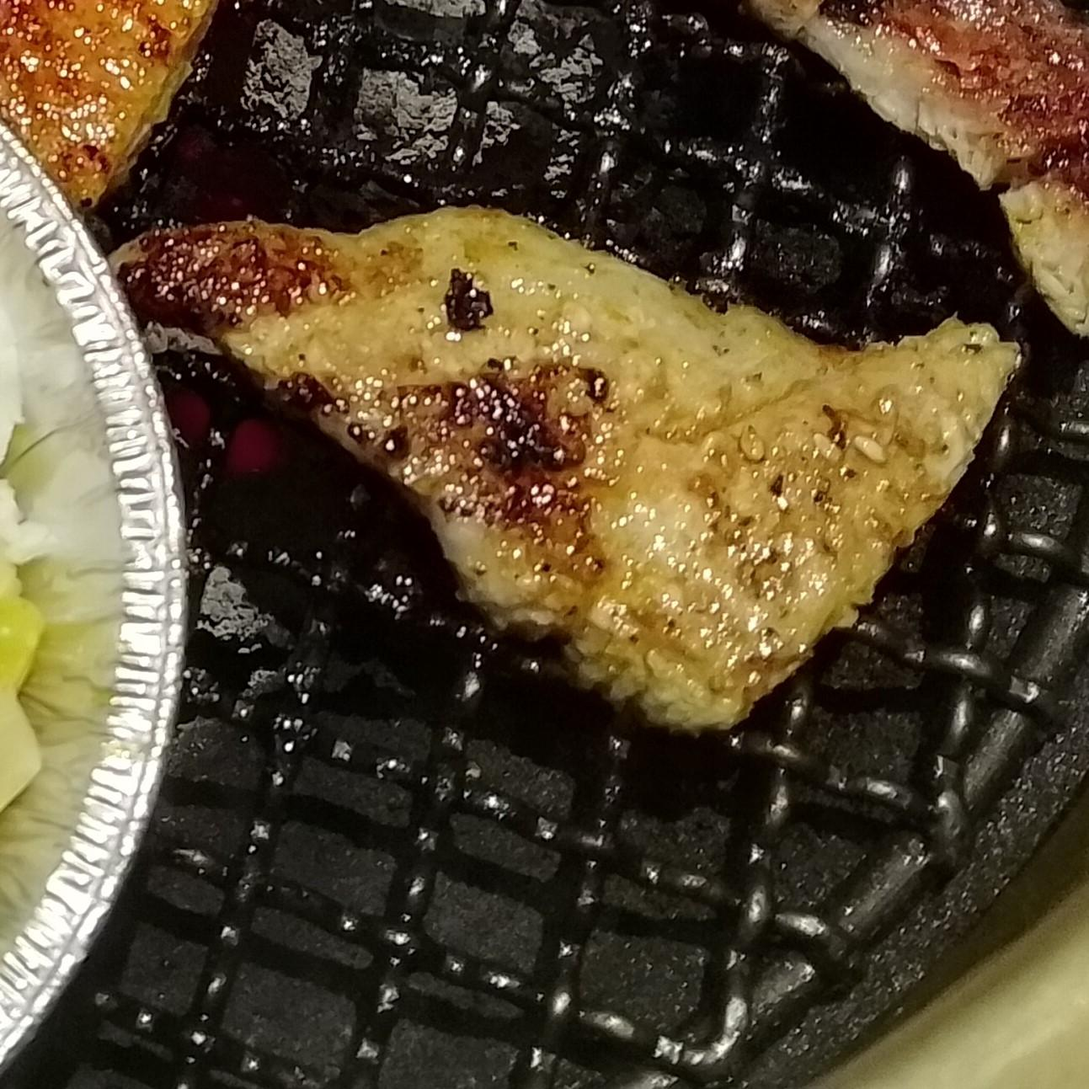Overcooked: (112, 206, 1021, 732)
